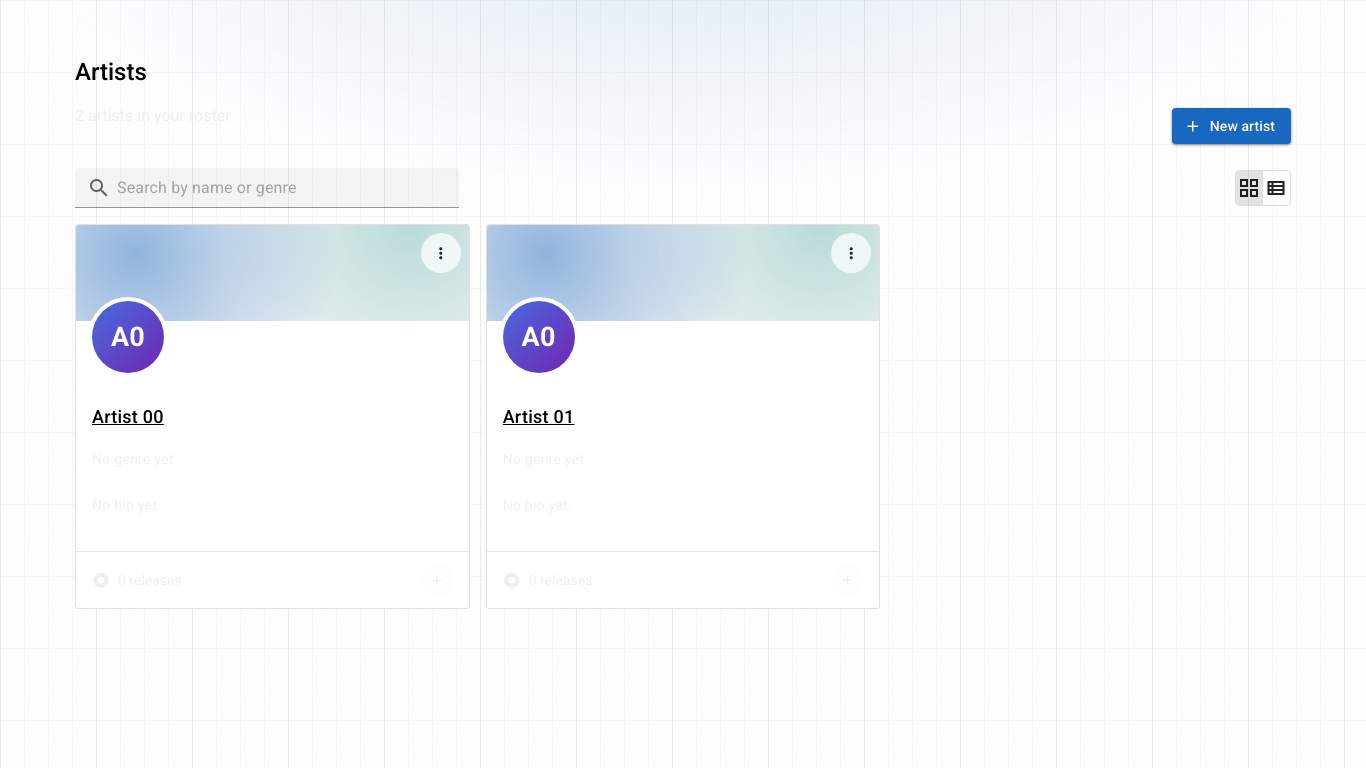
Scenario: ArtistsView › view mode › switches to the list view and remembers the choice
Click the button named "List view" at (1277,188), box [1263,170,1291,206]
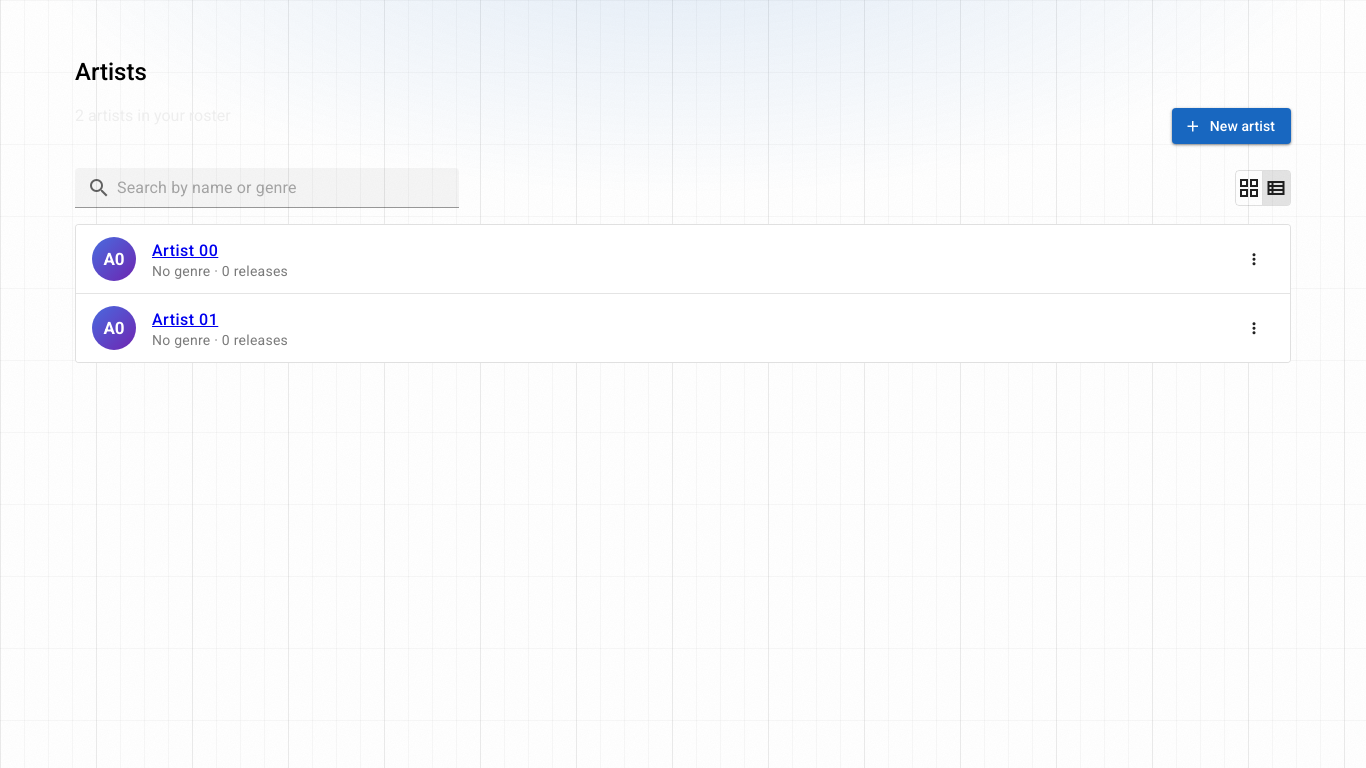
expect the element that starts with "Artist 00" is shown: met, box [75,224,1291,363]
